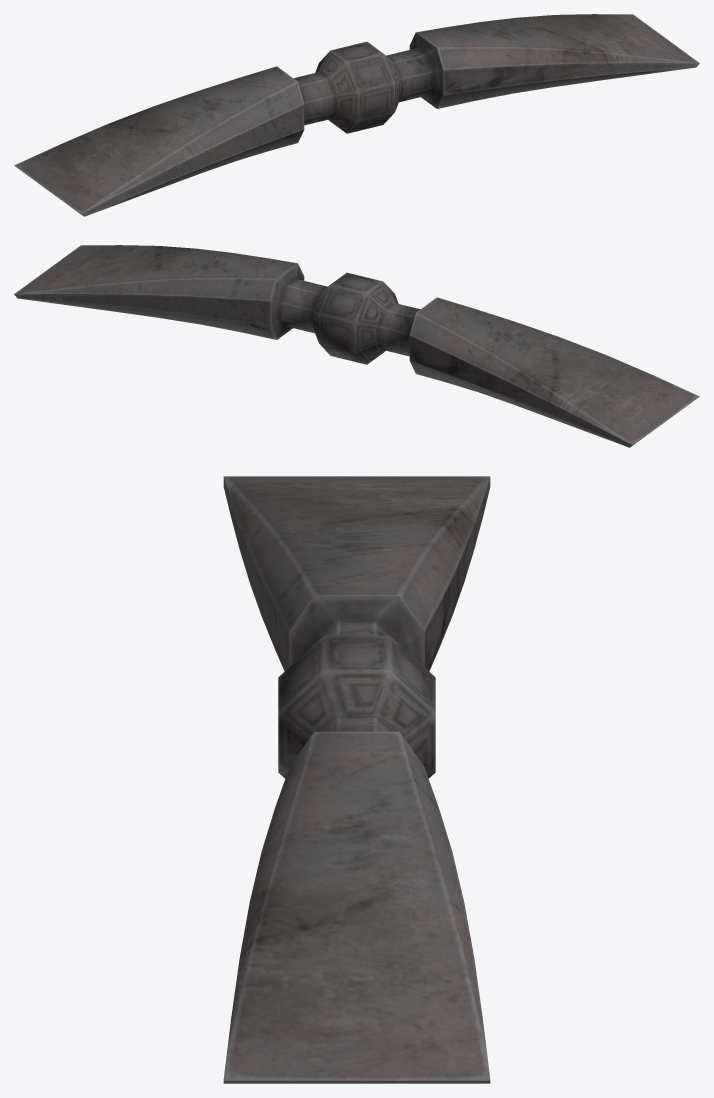
The model's file is sm_dwarf_iron_mattock_blade_d.fbx.
The picture shows the model from 3 angles, top to bottom: view 1: azimuth 30°, elevation 25°; view 2: azimuth 150°, elevation 25°; view 3: azimuth 270°, elevation 25°; orthographic projection. The views are drawn at different scales.
Visible parts, largest first — view 1: sm_dwarf_iron_mattock_blade_d; view 2: sm_dwarf_iron_mattock_blade_d; view 3: sm_dwarf_iron_mattock_blade_d.
Part boxes in pixels (x1,y1,x2,y2): sm_dwarf_iron_mattock_blade_d: (14,14,699,216); sm_dwarf_iron_mattock_blade_d: (14,245,699,447); sm_dwarf_iron_mattock_blade_d: (223,476,490,1083).
Bounding box in the file's own units: 0.8469 × 0.1581 × 0.0934.
Materials: 1 (1 with a texture image).
